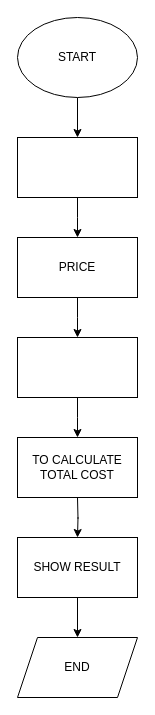
Image size: 155x715. Some labels were removed from this diagram. Each missing label, with the box of its shape:
AMOUNT: (16, 336, 138, 398)
READ NAME: (16, 136, 138, 198)
